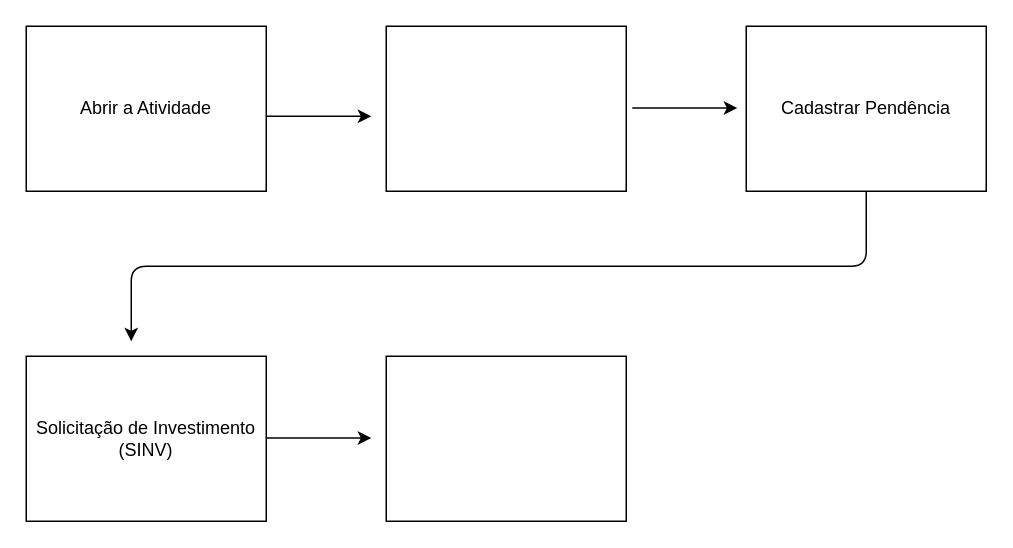
Image size: 1013x548. Some labels were removed from this diagram. The centre of each missing label's shape, as x and y in pixels:
"Abrir a ATSK" belongs at [505,108].
"Solicitação de Item (ITEM)" belongs at [505,438].
